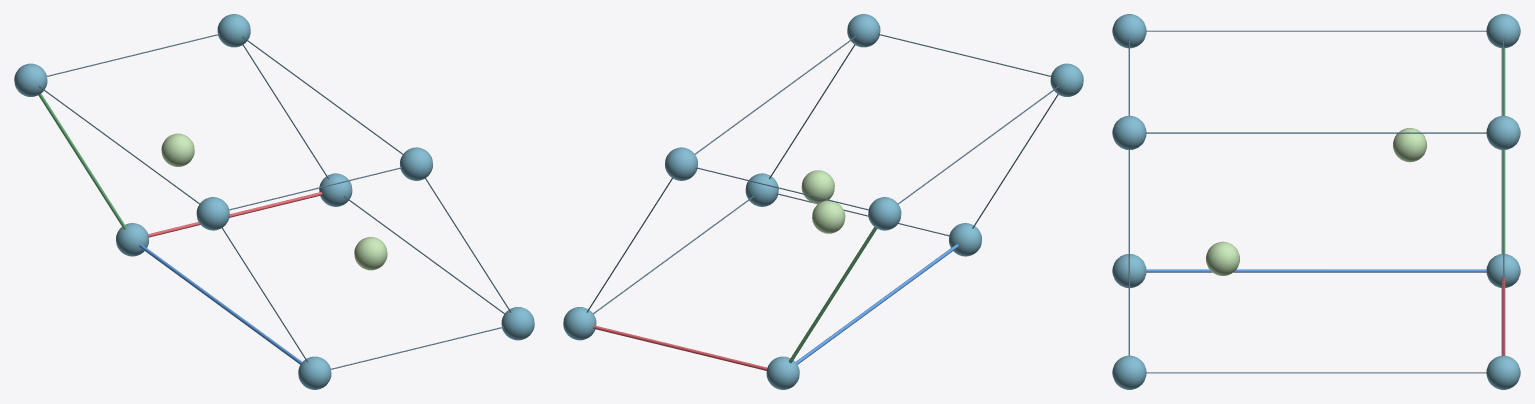
The model's file is chat-calcium-iodide.glb.
3 views of the same model, side by side, from view 1: azimuth 30°, elevation 25°; view 2: azimuth 150°, elevation 25°; view 3: azimuth 270°, elevation 25° (orthographic). The views are drawn at different scales.
Visible parts, largest first — view 1: Ca · Ca · 1 (×8), Ô mạng và các trục a, b, c, I · I · 1 (×2); view 2: Ca · Ca · 1 (×8), Ô mạng và các trục a, b, c, I · I · 1 (×2); view 3: Ca · Ca · 1 (×8), Ô mạng và các trục a, b, c, I · I · 1 (×2).
Boxes of the visible parts, x1=… form: Ca · Ca · 1 (×8): x1=14, y1=14, x2=534, y2=389; Ô mạng và các trục a, b, c: x1=38, y1=33, x2=511, y2=369; I · I · 1 (×2): x1=161, y1=133, x2=387, y2=270; Ca · Ca · 1 (×8): x1=563, y1=14, x2=1083, y2=389; Ô mạng và các trục a, b, c: x1=586, y1=33, x2=1059, y2=370; I · I · 1 (×2): x1=801, y1=170, x2=845, y2=233; Ca · Ca · 1 (×8): x1=1112, y1=14, x2=1520, y2=389; Ô mạng và các trục a, b, c: x1=1128, y1=30, x2=1505, y2=373; I · I · 1 (×2): x1=1206, y1=128, x2=1426, y2=275.
Bounding box in the file's own units: 7.36 × 4.52 × 7.6.
